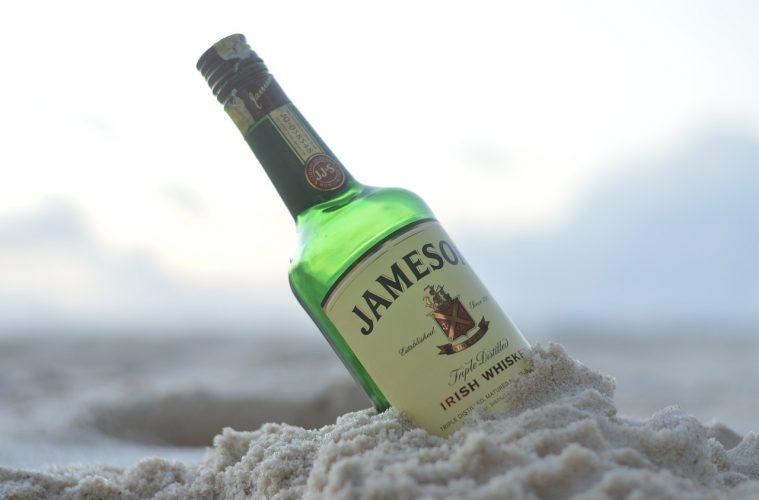Jameson: (192, 28, 543, 446)
